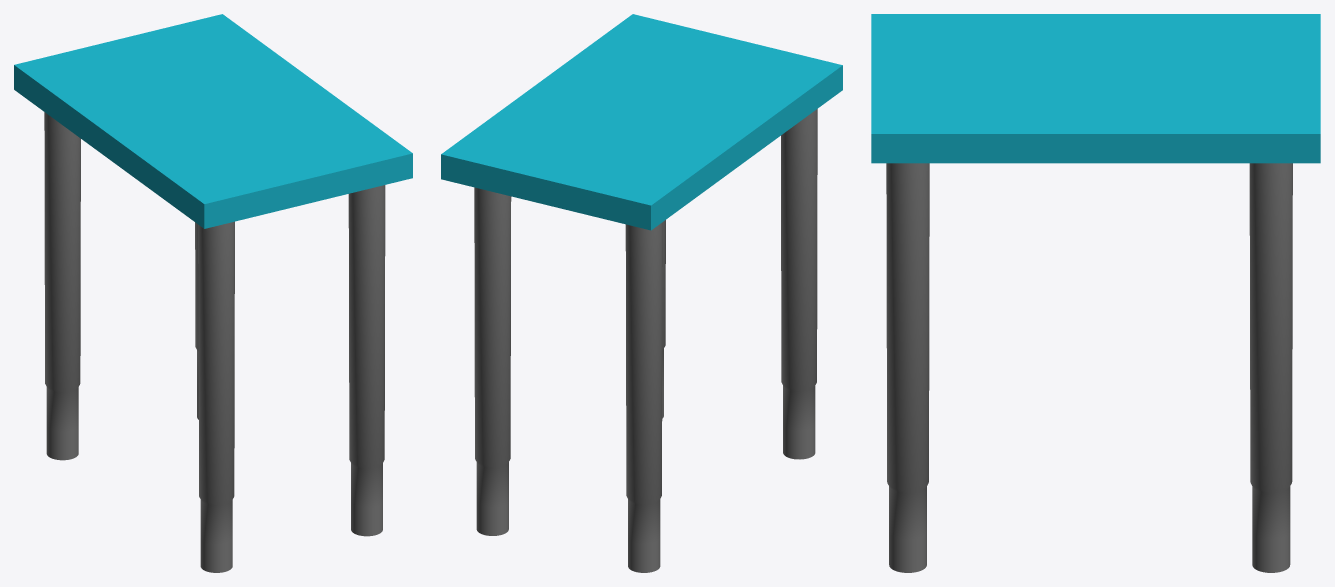
File: smltable.glb
3 views of the same model, side by side, from view 1: azimuth 30°, elevation 25°; view 2: azimuth 150°, elevation 25°; view 3: azimuth 270°, elevation 25° (orthographic). The views are drawn at different scales.
Parts seen in each view (by area): view 1: smallTable, Tube001, Tube002, Tube004, Tube003; view 2: smallTable, Tube004, Tube003, Tube001, Tube002; view 3: smallTable, Tube003, Tube002.
Boxes of the visible parts, x1,y1,x2,y2 form: smallTable: [14, 14, 412, 228]; Tube001: [198, 221, 234, 572]; Tube002: [348, 185, 385, 536]; Tube004: [44, 112, 80, 460]; Tube003: [195, 222, 198, 419]; smallTable: [441, 14, 842, 230]; Tube004: [625, 222, 662, 572]; Tube003: [474, 187, 511, 535]; Tube001: [781, 109, 817, 459]; Tube002: [662, 220, 665, 418]; smallTable: [871, 14, 1320, 163]; Tube003: [1249, 163, 1292, 572]; Tube002: [886, 163, 929, 572].
Bounding box in the file's own units: 0.508 × 0.8848 × 0.8033.
